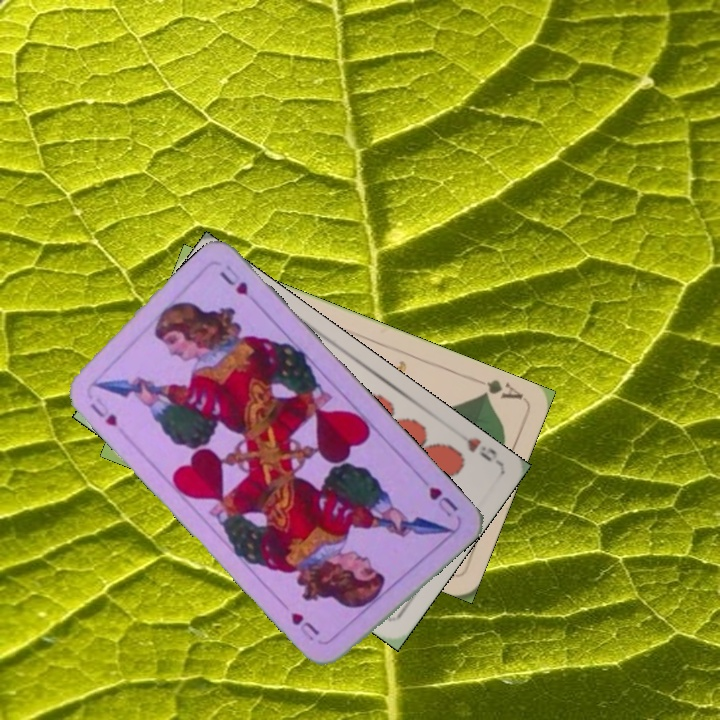GA: (477, 375, 526, 402)
H9: (462, 433, 499, 464)
HU: (424, 483, 460, 520), (86, 398, 120, 429)
